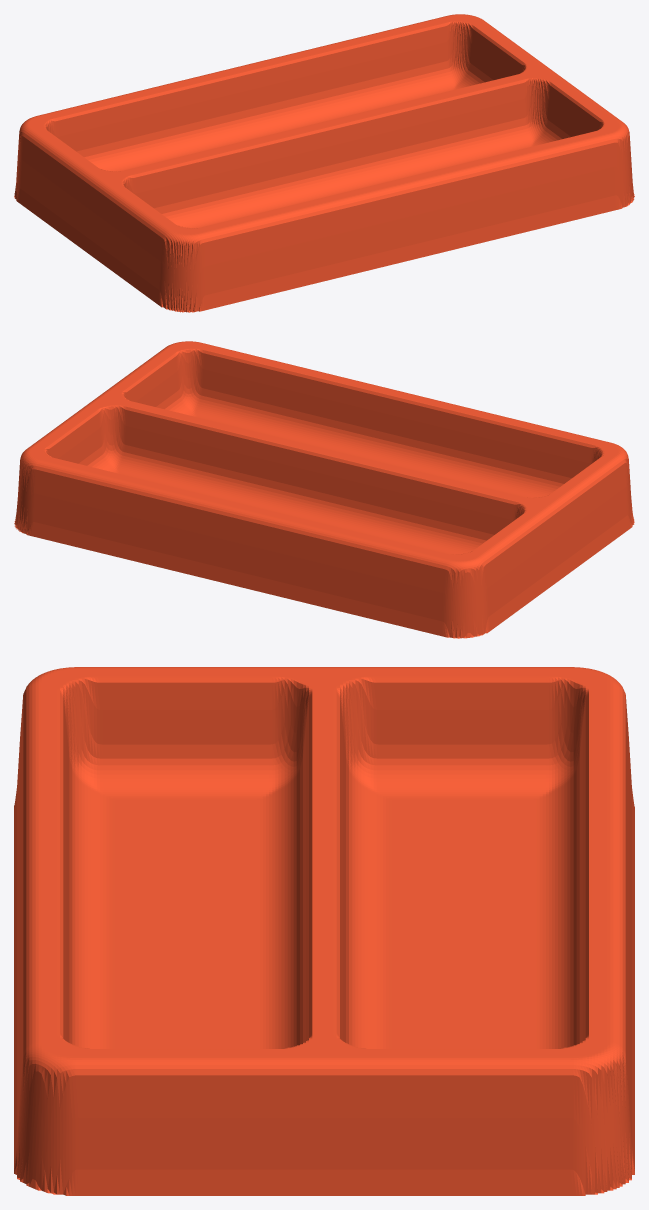
Rendered from mold.glb.
3 views of the same model, one above another, from view 1: azimuth 30°, elevation 25°; view 2: azimuth 150°, elevation 25°; view 3: azimuth 270°, elevation 25° (orthographic). The views are drawn at different scales.
Parts seen in each view (by area): view 1: geometry_0; view 2: geometry_0; view 3: geometry_0.
Boxes of the visible parts, bbox=[...] form: geometry_0: bbox=[14, 14, 634, 312]; geometry_0: bbox=[14, 341, 634, 638]; geometry_0: bbox=[14, 667, 634, 1195].
Bounding box in the file's own units: 0.1417 × 0.0205 × 0.0906.
